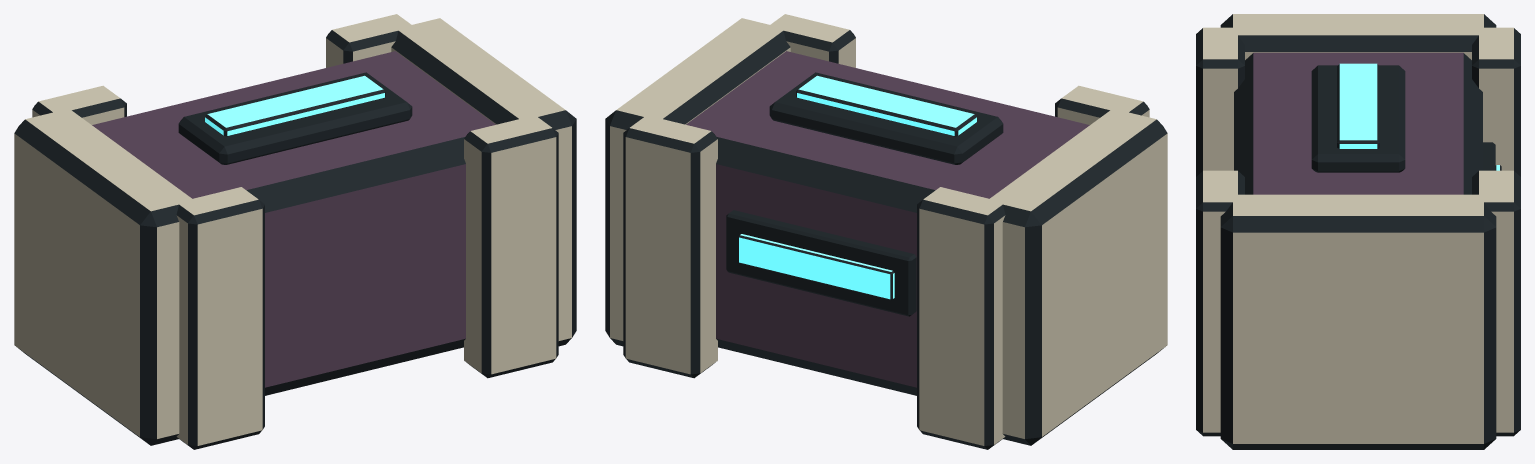
Rendered from tech_module.glb.
3 renders of one model, left to right at view 1: azimuth 30°, elevation 25°; view 2: azimuth 150°, elevation 25°; view 3: azimuth 270°, elevation 25°, orthographic.
Parts seen in each view (by area): view 1: Module notched casing, Module end brace -1, Module notch lug 1 -1, Module notch lug -1 -1, Module end brace 1, Module top slot, Module top cyan inset, Module notch lug 1 1, Module notch lug -1 1; view 2: Module notched casing, Module end brace -1, Module notch lug 1 1, Module notch lug -1 1, Module end brace 1, Module front slot, Module top slot, Module front cyan inset, Module top cyan inset, Module notch lug 1 -1, Module notch lug -1 -1; view 3: Module end brace 1, Module notched casing, Module end brace -1, Module notch lug 1 -1, Module notch lug 1 1, Module top slot, Module notch lug -1 -1, Module notch lug -1 1, Module top cyan inset, Module front slot.
Boxes of the visible parts, x1,y1,x2,y2 form: Module notched casing: [92, 51, 495, 395]; Module end brace -1: [14, 108, 193, 445]; Module notch lug 1 -1: [464, 117, 558, 378]; Module notch lug -1 -1: [176, 187, 264, 449]; Module end brace 1: [391, 18, 576, 346]; Module top slot: [178, 72, 412, 164]; Module top cyan inset: [205, 75, 385, 136]; Module notch lug 1 1: [326, 14, 411, 67]; Module notch lug -1 1: [32, 85, 126, 124]; Module notched casing: [686, 51, 1089, 395]; Module end brace -1: [988, 108, 1167, 445]; Module notch lug 1 1: [623, 117, 717, 378]; Module notch lug -1 1: [917, 187, 1005, 449]; Module end brace 1: [605, 18, 790, 346]; Module front slot: [726, 210, 916, 316]; Module top slot: [769, 72, 1003, 164]; Module front cyan inset: [738, 234, 894, 300]; Module top cyan inset: [796, 75, 976, 136]; Module notch lug 1 -1: [770, 14, 855, 67]; Module notch lug -1 -1: [1055, 85, 1149, 124]; Module end brace 1: [1220, 194, 1496, 449]; Module notched casing: [1234, 52, 1482, 194]; Module end brace -1: [1220, 14, 1496, 59]; Module notch lug 1 -1: [1196, 170, 1244, 436]; Module notch lug 1 1: [1472, 170, 1520, 436]; Module top slot: [1311, 65, 1405, 172]; Module notch lug -1 -1: [1196, 27, 1244, 176]; Module notch lug -1 1: [1472, 27, 1520, 176]; Module top cyan inset: [1337, 63, 1379, 148]; Module front slot: [1483, 142, 1495, 170].
Size of the model in its own units: 0.565 by 0.306 by 0.365.
